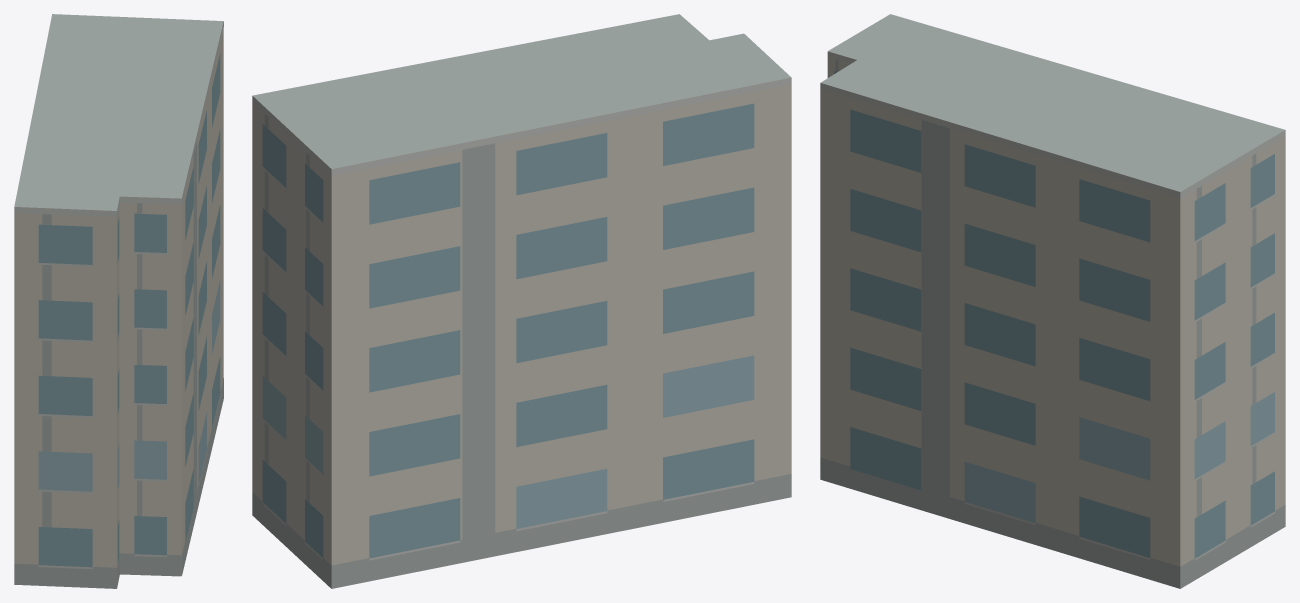
File: survey-upis-32662607.glb
3 renders of one model, left to right at view 1: azimuth 30°, elevation 25°; view 2: azimuth 150°, elevation 25°; view 3: azimuth 270°, elevation 25°, orthographic. The views are drawn at different scales.
Visible parts, largest first — view 1: survey-upis-32662607.tmp; view 2: survey-upis-32662607.tmp; view 3: survey-upis-32662607.tmp.
Boxes of the visible parts, x1,y1,x2,y2 form: survey-upis-32662607.tmp: (14,14,223,588); survey-upis-32662607.tmp: (252,14,791,588); survey-upis-32662607.tmp: (820,14,1285,588).
Bounding box in the file's own units: 14.68 × 15.25 × 16.21.
